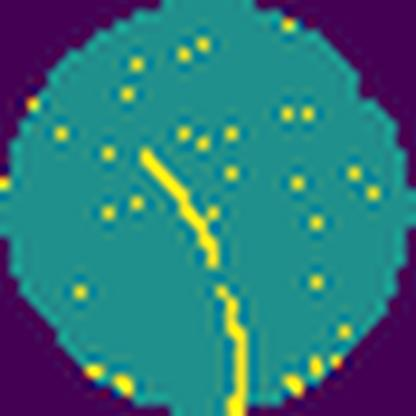Scratch: (134, 145, 222, 270), (213, 279, 253, 416)
